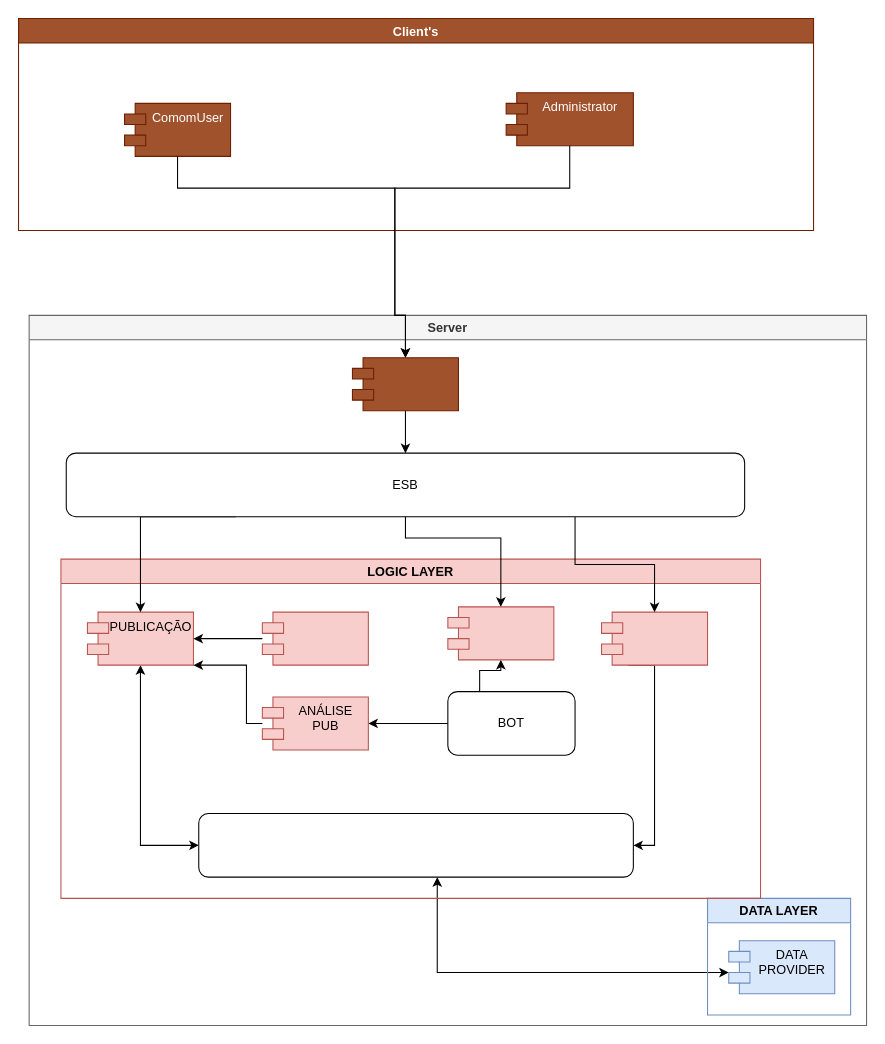
The diagram is 885 pixels wide and 1044 high, and some of its shapes have lost their labels. The shapes that lost their labels are listed below. From the top down, each one's centre as x and y in pixels, then its label:
the point at 404,384: DASHBOARD
the point at 314,638: PUBLICAÇÃO EXTERNA
the point at 500,633: RANKING
the point at 654,638: USER
the point at 415,844: ORM LAYER
